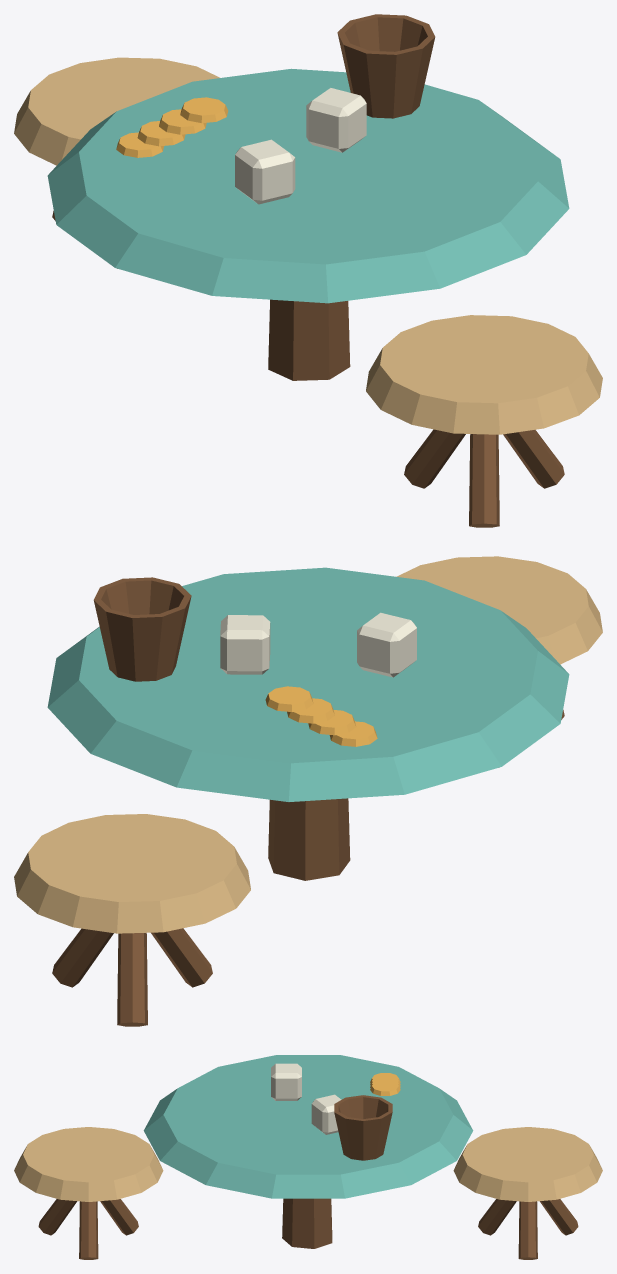
The model's file is CC_GamblingDen.fbx.
3 renders of one model, top to bottom at view 1: azimuth 30°, elevation 25°; view 2: azimuth 150°, elevation 25°; view 3: azimuth 270°, elevation 25°, orthographic. The views are drawn at different scales.
Parts seen in each view (by area): view 1: Round table top, Stool seat.007, Stool seat.008, Dice cup, Table foot, Die.001, Die, Stool leg.023, Stool leg.021, Stool leg.022, Coin.003, Coin.001 (+2 smaller); view 2: Round table top, Stool seat.008, Stool seat.007, Dice cup, Table foot, Die, Die.001, Stool leg.025, Stool leg.024, Stool leg.026, Coin.003, Coin.001 (+2 smaller); view 3: Round table top, Stool seat.007, Stool seat.008, Dice cup, Table foot, Die, Stool leg.021, Stool leg.024, Die.001, Stool leg.022, Stool leg.026, Stool leg.023 (+2 smaller).
Boxes of the visible parts, bbox=[...] form: Round table top: bbox=[47, 68, 569, 303]; Stool seat.007: bbox=[366, 315, 602, 434]; Stool seat.008: bbox=[14, 57, 219, 165]; Dice cup: bbox=[337, 14, 435, 118]; Table foot: bbox=[268, 299, 350, 380]; Die.001: bbox=[306, 88, 366, 152]; Die: bbox=[235, 139, 295, 204]; Stool leg.023: bbox=[469, 434, 499, 527]; Stool leg.021: bbox=[503, 429, 564, 488]; Stool leg.022: bbox=[404, 429, 465, 488]; Coin.003: bbox=[180, 97, 228, 123]; Coin.001: bbox=[137, 121, 185, 146]; Round table top: bbox=[47, 567, 569, 801]; Stool seat.008: bbox=[14, 814, 250, 933]; Stool seat.007: bbox=[396, 556, 602, 664]; Dice cup: bbox=[93, 577, 191, 681]; Table foot: bbox=[268, 798, 350, 880]; Die: bbox=[357, 612, 416, 677]; Die.001: bbox=[220, 615, 270, 674]; Stool leg.025: bbox=[117, 933, 147, 1026]; Stool leg.024: bbox=[52, 928, 113, 987]; Stool leg.026: bbox=[151, 928, 212, 987]; Coin.003: bbox=[265, 686, 313, 711]; Coin.001: bbox=[308, 710, 356, 735]; Round table top: bbox=[143, 1055, 473, 1198]; Stool seat.007: bbox=[14, 1127, 163, 1201]; Stool seat.008: bbox=[453, 1127, 602, 1201]; Dice cup: bbox=[334, 1095, 392, 1160]; Table foot: bbox=[282, 1198, 332, 1248]; Die: bbox=[271, 1063, 301, 1100]; Stool leg.021: bbox=[79, 1201, 98, 1259]; Stool leg.024: bbox=[518, 1201, 537, 1259]; Die.001: bbox=[311, 1094, 341, 1134]; Stool leg.022: bbox=[100, 1199, 138, 1235]; Stool leg.026: bbox=[478, 1199, 516, 1235]; Stool leg.023: bbox=[38, 1199, 76, 1235].
Size of the model in its own units: 1.46 by 0.862 by 2.68.
